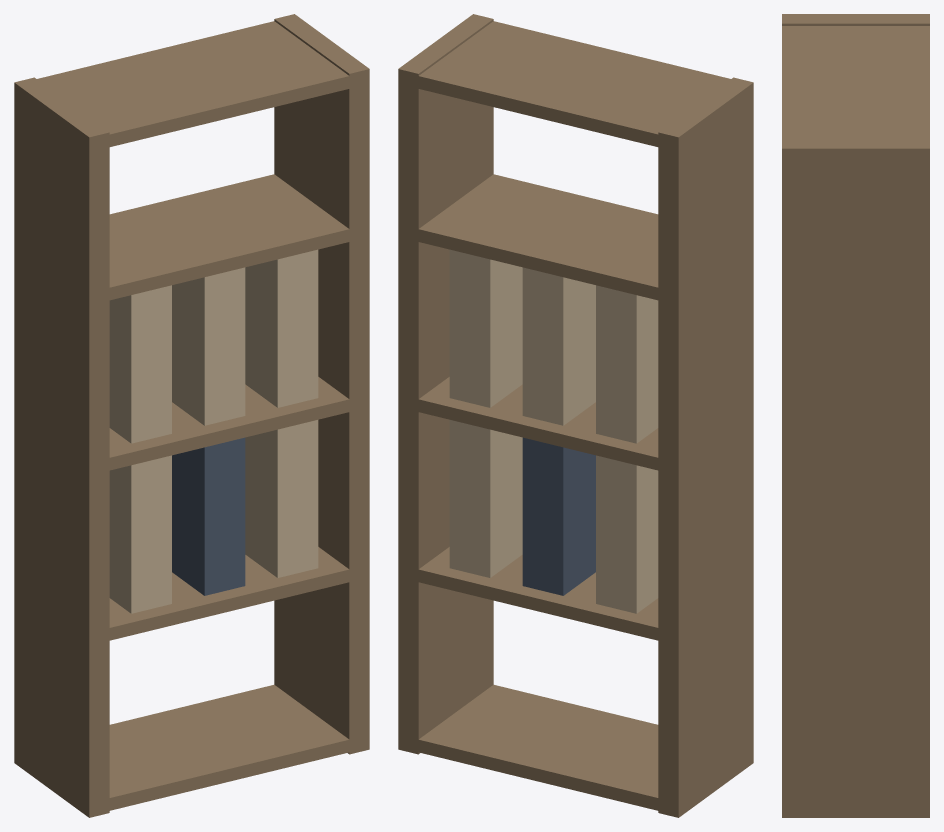
The model's file is welt_ordnerregal.glb.
3 views of the same model, side by side, from view 1: azimuth 30°, elevation 25°; view 2: azimuth 150°, elevation 25°; view 3: azimuth 270°, elevation 25° (orthographic).
Parts seen in each view (by area): view 1: seite_l, seite_r, boden_4, boden_3, boden_0, ordner_1_1, ordner_0_1, ordner_0_2, ordner_1_2, ordner_0_0, ordner_1_0, boden_1 (+1 smaller); view 2: seite_l, seite_r, boden_4, boden_3, boden_0, ordner_1_1, ordner_0_1, ordner_0_2, ordner_1_2, ordner_0_0, ordner_1_0, boden_1 (+1 smaller); view 3: seite_r, boden_4, seite_l.
Part boxes in pixels (x1,y1,x2,y2): seite_l: (14, 77, 109, 817); seite_r: (274, 14, 369, 754); boden_4: (37, 21, 355, 148); boden_3: (103, 174, 355, 301); boden_0: (106, 684, 355, 811); ordner_1_1: (172, 267, 245, 425); ordner_0_1: (172, 437, 245, 595); ordner_0_2: (245, 420, 318, 577); ordner_1_2: (245, 249, 318, 407); ordner_0_0: (109, 455, 171, 613); ordner_1_0: (109, 285, 171, 443); boden_1: (103, 547, 355, 641); seite_l: (658, 77, 753, 817); seite_r: (398, 14, 493, 754); boden_4: (412, 21, 730, 148); boden_3: (412, 174, 664, 301); boden_0: (412, 684, 658, 810); ordner_1_1: (522, 267, 595, 425); ordner_0_1: (522, 437, 595, 595); ordner_0_2: (449, 420, 522, 577); ordner_1_2: (449, 249, 522, 407); ordner_0_0: (596, 455, 658, 613); ordner_1_0: (596, 285, 658, 443); boden_1: (412, 547, 664, 641); seite_r: (782, 139, 929, 817); boden_4: (782, 26, 929, 138); seite_l: (782, 14, 929, 25).
Bounding box in the file's own units: 0.69 × 1.6 × 0.32.
